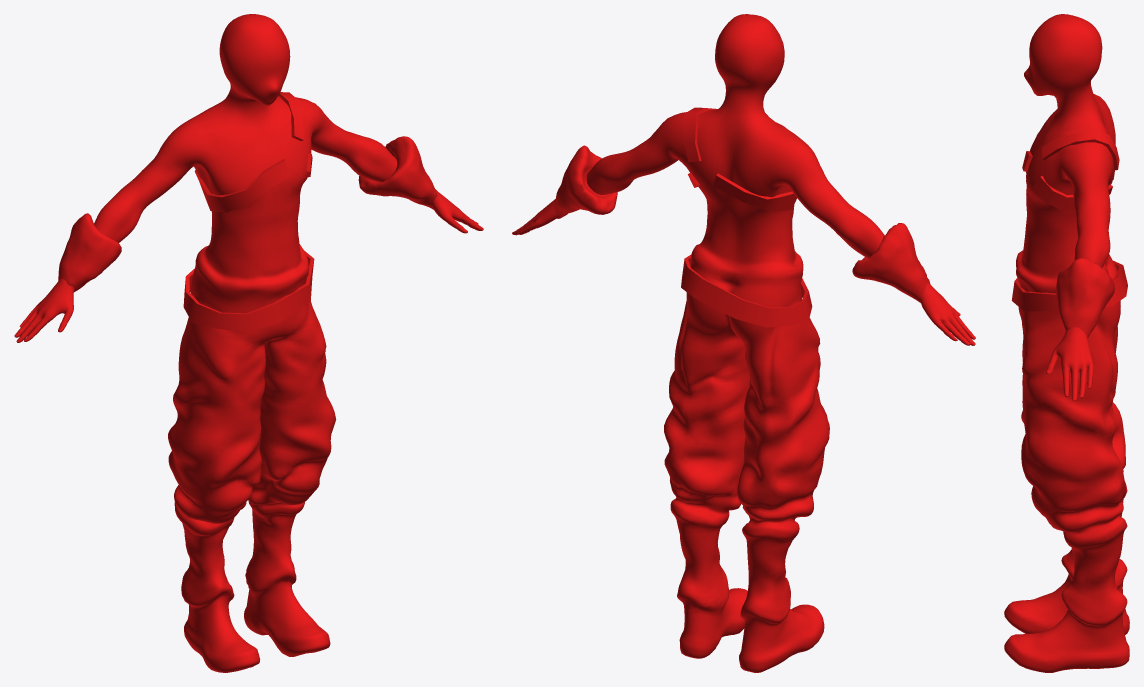
Rendered from SM_AmonPainter.fbx.
3 views of the same model, side by side, from view 1: azimuth 30°, elevation 25°; view 2: azimuth 150°, elevation 25°; view 3: azimuth 270°, elevation 25° (orthographic).
Visible parts, largest first — view 1: SM_AmonPainter; view 2: SM_AmonPainter; view 3: SM_AmonPainter.
Boxes of the visible parts, box(x1,y1,x2,y2) form: SM_AmonPainter: box(14, 14, 483, 672); SM_AmonPainter: box(512, 14, 975, 672); SM_AmonPainter: box(1004, 14, 1129, 672).
Bounding box in the file's own units: 140 × 182 × 32.82.
